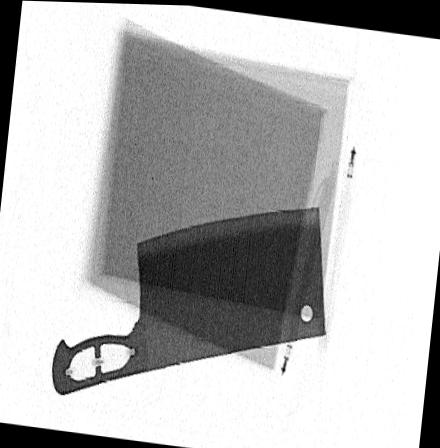Knife: (51, 202, 326, 394)
